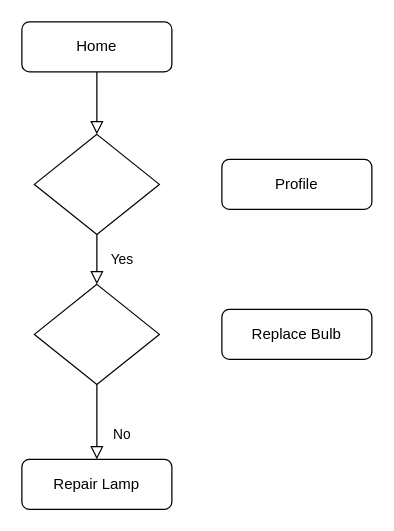
This 394x531 diagram has some shape labels left out. Each missing label, with the centre of its shape:
"Bulb burned out?" goes at (x=96, y=333).
"Lamp plugged in?" goes at (x=96, y=183).
